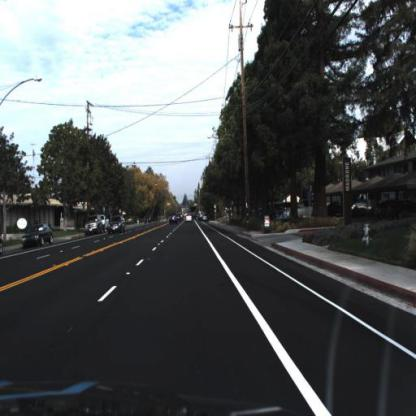car: (283, 196, 318, 221), (21, 223, 56, 247), (107, 215, 128, 238), (86, 214, 104, 237)
